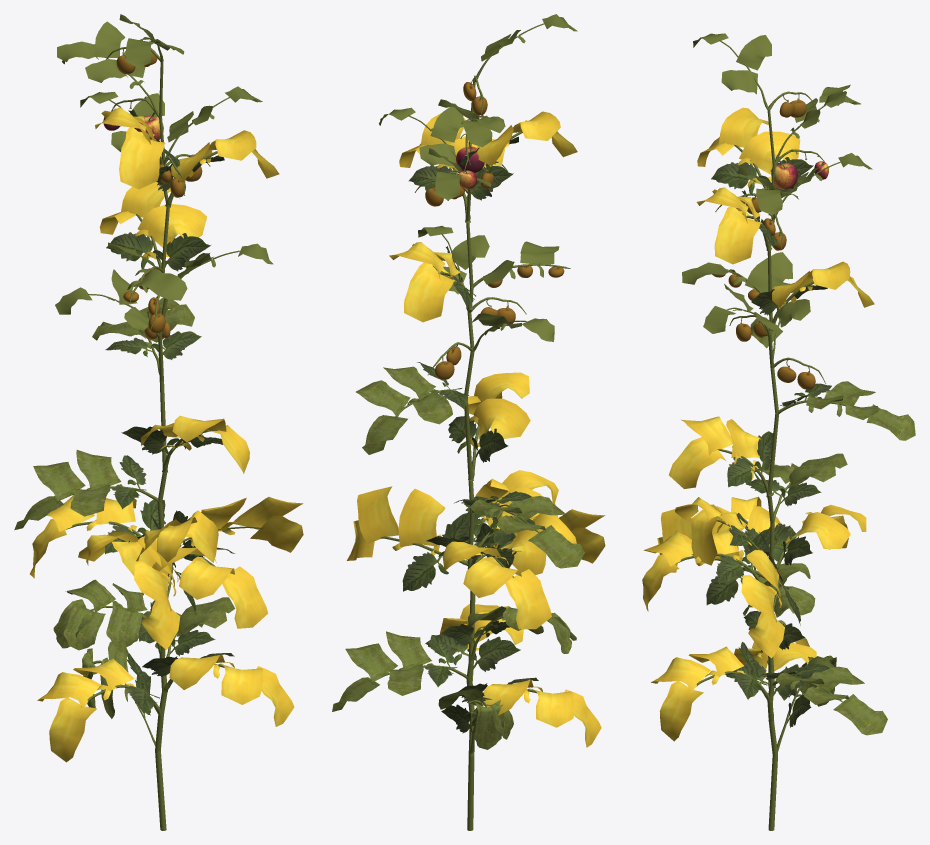
File: apple_tree.dae
3 views of the same model, side by side, from view 1: azimuth 30°, elevation 25°; view 2: azimuth 150°, elevation 25°; view 3: azimuth 270°, elevation 25° (orthographic). The views are drawn at different scales.
Parts seen in each view (by area): view 1: Blossom2, Branch1, Leaf1, Blossom1; view 2: Blossom2, Branch1, Leaf1, Blossom1; view 3: Blossom2, Branch1, Leaf1, Blossom1, Apple2.
Part boxes in pixels (x1,y1,x2,y2): Blossom2: [30, 107, 303, 762]; Branch1: [14, 14, 273, 830]; Leaf1: [105, 109, 234, 717]; Blossom1: [53, 579, 147, 718]; Blossom2: [347, 111, 605, 747]; Branch1: [332, 14, 584, 830]; Leaf1: [402, 136, 538, 733]; Blossom1: [438, 606, 576, 749]; Blossom2: [642, 107, 874, 741]; Branch1: [676, 33, 915, 830]; Leaf1: [706, 157, 831, 727]; Blossom1: [743, 563, 836, 706]; Apple2: [771, 163, 797, 189].
Size of the model in its own units: 0.8605 by 0.8422 by 2.67.
7 materials, 6 textured.
